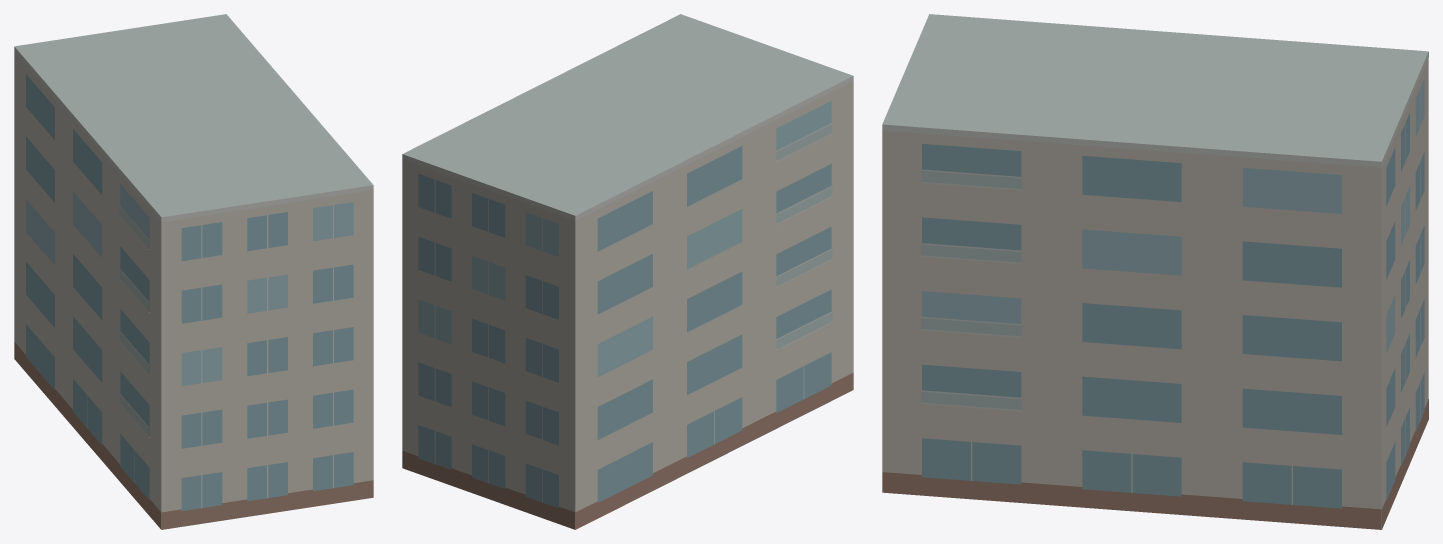
Rendered from survey-upis-32754767.glb.
3 renders of one model, left to right at view 1: azimuth 30°, elevation 25°; view 2: azimuth 150°, elevation 25°; view 3: azimuth 270°, elevation 25°, orthographic. The views are drawn at different scales.
Visible parts, largest first — view 1: survey-upis-32754767.tmp; view 2: survey-upis-32754767.tmp; view 3: survey-upis-32754767.tmp.
Part boxes in pixels (x1=…): survey-upis-32754767.tmp: x1=14, y1=14, x2=373, y2=529; survey-upis-32754767.tmp: x1=402, y1=14, x2=853, y2=529; survey-upis-32754767.tmp: x1=882, y1=14, x2=1428, y2=529.
Bounding box in the file's own units: 13.1 × 15.2 × 20.46.
